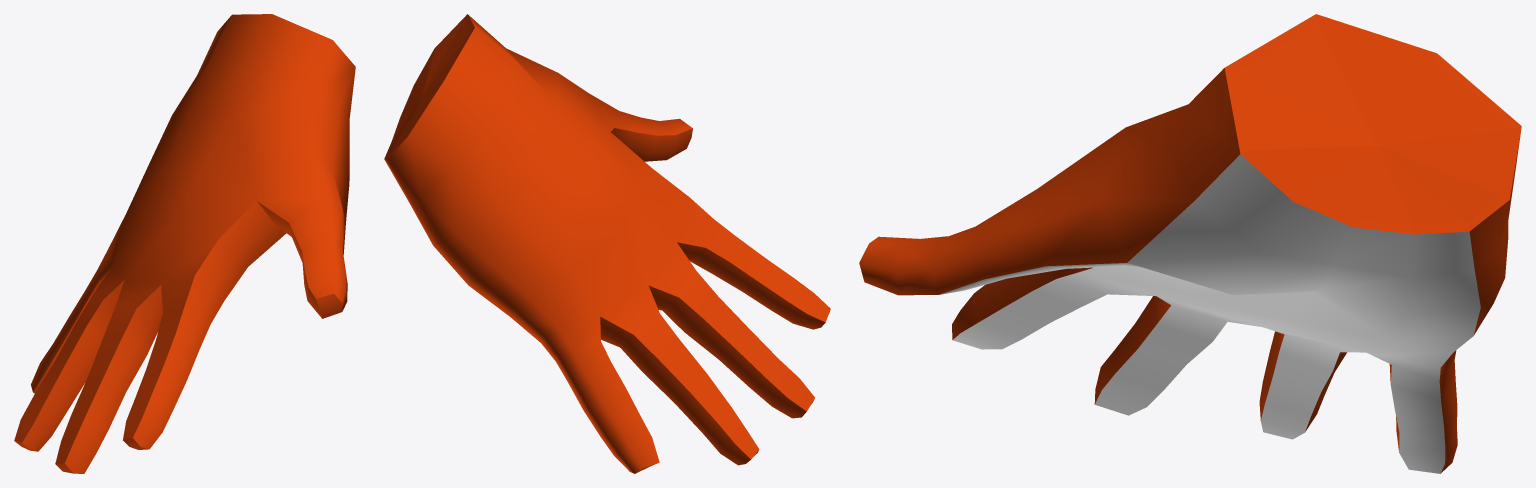
File: left hand'.fbx
3 views of the same model, side by side, from view 1: azimuth 30°, elevation 25°; view 2: azimuth 150°, elevation 25°; view 3: azimuth 270°, elevation 25° (orthographic). The views are drawn at different scales.
Parts seen in each view (by area): view 1: left; view 2: left; view 3: left.
Boxes of the visible parts, x1=… form: left: x1=14, y1=14, x2=355, y2=473; left: x1=384, y1=14, x2=830, y2=473; left: x1=859, y1=14, x2=1521, y2=473.
Bounding box in the file's own units: 15.91 × 15.87 × 16.74.
